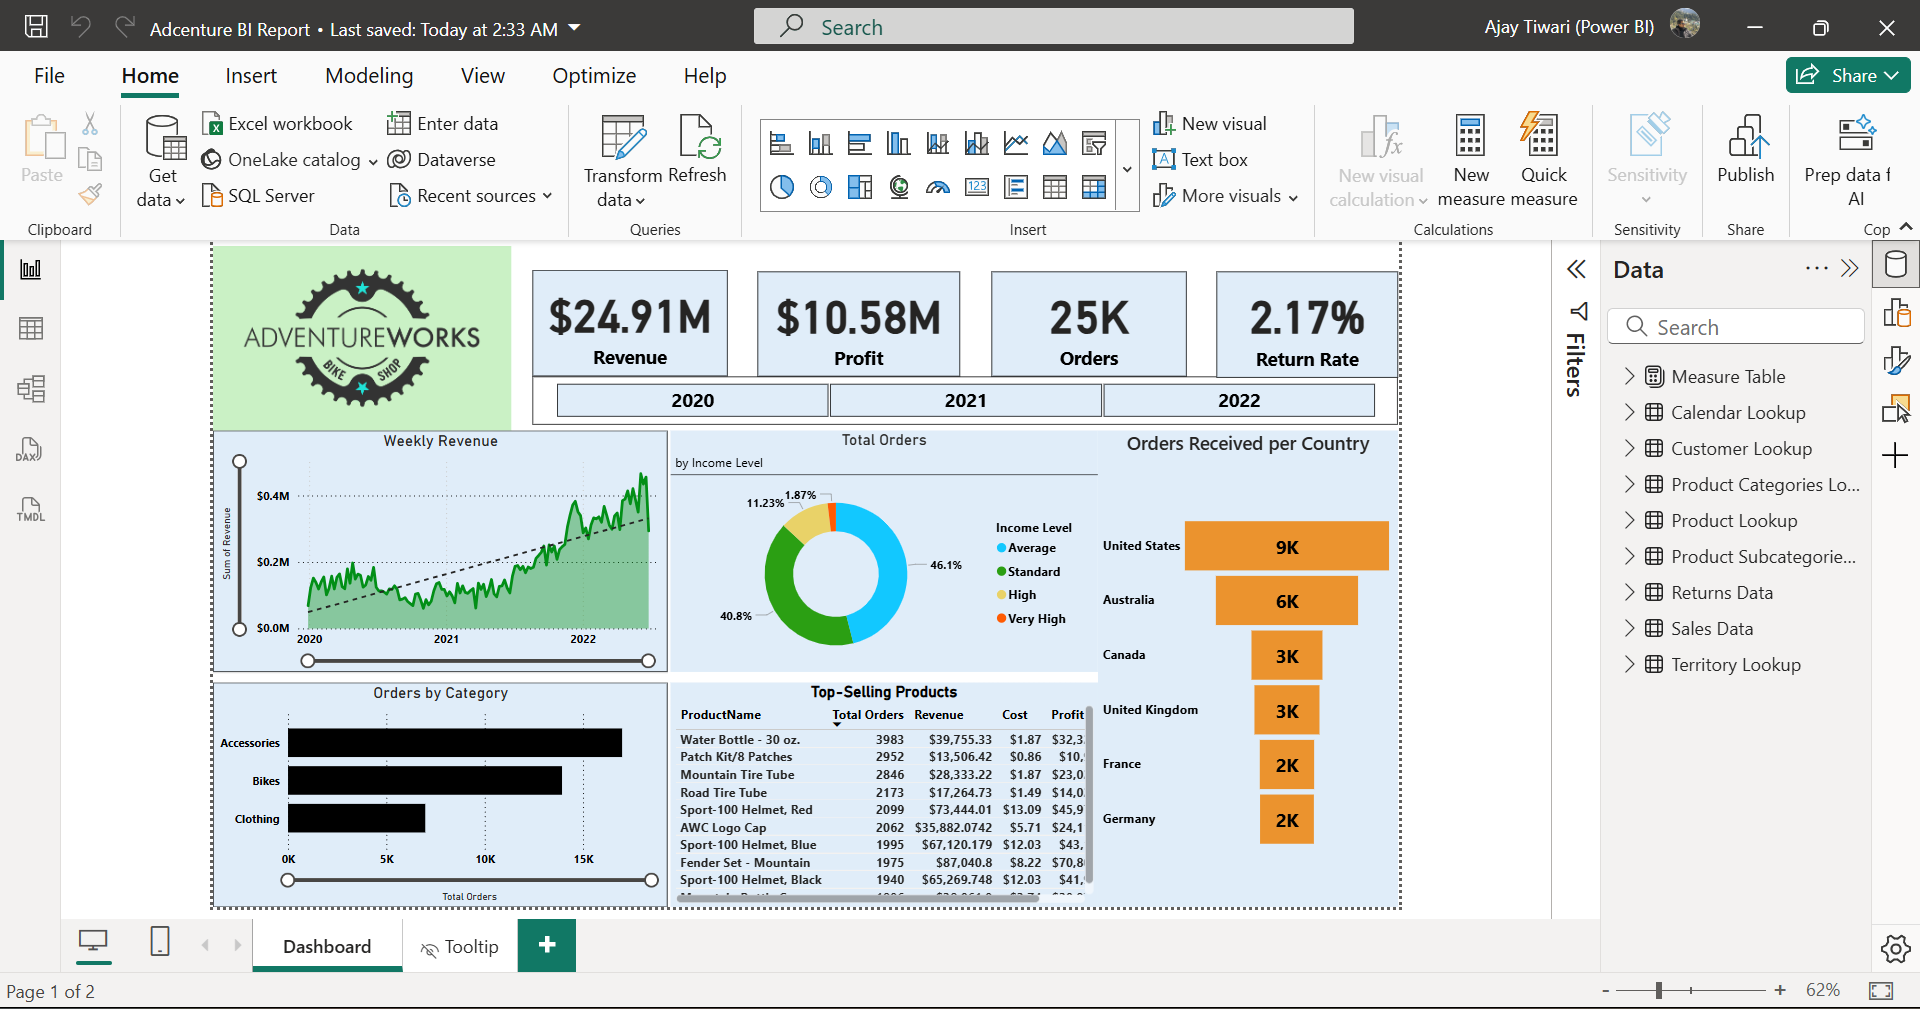

What the dashboard file says about the page in this screenshot:
{"tool":"powerbi","page":{"name":"Dashboard","canvas":[1280,720],"ordinal":0},"visuals":[{"type":"image","box":[0,6.5,322.2,199.2],"z":0},{"type":"card","fields":{"Values":["Sum(Sales Data.Profit)"]},"box":[588.3,34.5,218.6,113.3],"z":1000},{"type":"card","fields":{"Values":["Sum(Sales Data.Revenue)"]},"box":[344.9,32.4,210.5,115],"z":2000},{"type":"card","fields":{"Values":["Measure Table.Total Orders"]},"box":[839.8,34,210.5,113.3],"z":3000},{"type":"clusteredBarChart","title":"Orders by Category","fields":{"Category":["Product Categories Lookup.CategoryName"],"Y":["Measure Table.Total Orders"]},"box":[0,477.7,490.6,242.9],"z":4000},{"type":"lineChart","title":"Weekly Revenue","fields":{"Y":["Sum(Sales Data.Revenue)"],"Category":["Calendar Lookup.Date Hierarchy.Start of Week"]},"box":[0,205.6,490.6,260.7],"z":5000},{"type":"donutChart","fields":{"Y":["Measure Table.Total Orders"],"Category":["Customer Lookup.Income Level"]},"box":[493.9,205.6,461.5,260.7],"z":6000},{"type":"tableEx","title":"Top-Selling Products","fields":{"Values":["Product Lookup.ProductName","Measure Table.Total Orders","Sum(Sales Data.Revenue)","Sum(Product Lookup.ProductCost)","Sum(Sales Data.Profit)"]},"box":[493.9,477.7,461.5,242.9],"z":7000},{"type":"slicer","fields":{"Values":["Calendar Lookup.Year"]},"box":[344.9,147.3,934.3,51.8],"z":8000},{"type":"funnel","title":"Orders Received per Country","fields":{"Category":["Territory Lookup.Country"],"Y":["Measure Table.Total Orders"]},"box":[955.3,205.6,323.8,514.9],"z":9000},{"type":"card","fields":{"Values":["Measure Table.Return Rate"]},"box":[1083.3,33.5,195.9,115],"z":11000}]}

Visuals, with their boxes on the page's 1280x720 design canvas (x1, y1, x2, y2). These are canvas units, not pixel positions in the 1920x1009 screenshot, which may show the page scaled, cropped or inside an application window:
image: [x1=0, y1=6, x2=322, y2=206]
card - Sum(Sales Data.Profit): [x1=588, y1=34, x2=807, y2=148]
card - Sum(Sales Data.Revenue): [x1=345, y1=32, x2=555, y2=147]
card - Measure Table.Total Orders: [x1=840, y1=34, x2=1050, y2=147]
"Orders by Category" clusteredBarChart: [x1=0, y1=478, x2=491, y2=721]
"Weekly Revenue" lineChart: [x1=0, y1=206, x2=491, y2=466]
donutChart - Measure Table.Total Orders x Customer Lookup.Income Level: [x1=494, y1=206, x2=955, y2=466]
"Top-Selling Products" tableEx: [x1=494, y1=478, x2=955, y2=721]
slicer - Calendar Lookup.Year: [x1=345, y1=147, x2=1279, y2=199]
"Orders Received per Country" funnel: [x1=955, y1=206, x2=1279, y2=720]
card - Measure Table.Return Rate: [x1=1083, y1=34, x2=1279, y2=148]
